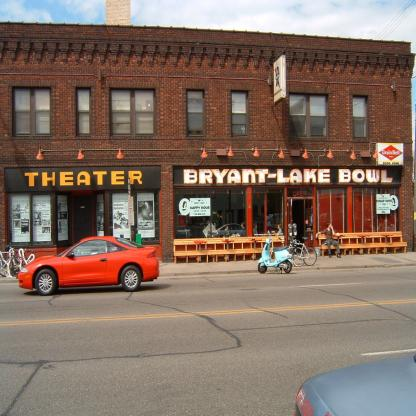Car: (23, 230, 157, 294), (295, 352, 416, 416)
